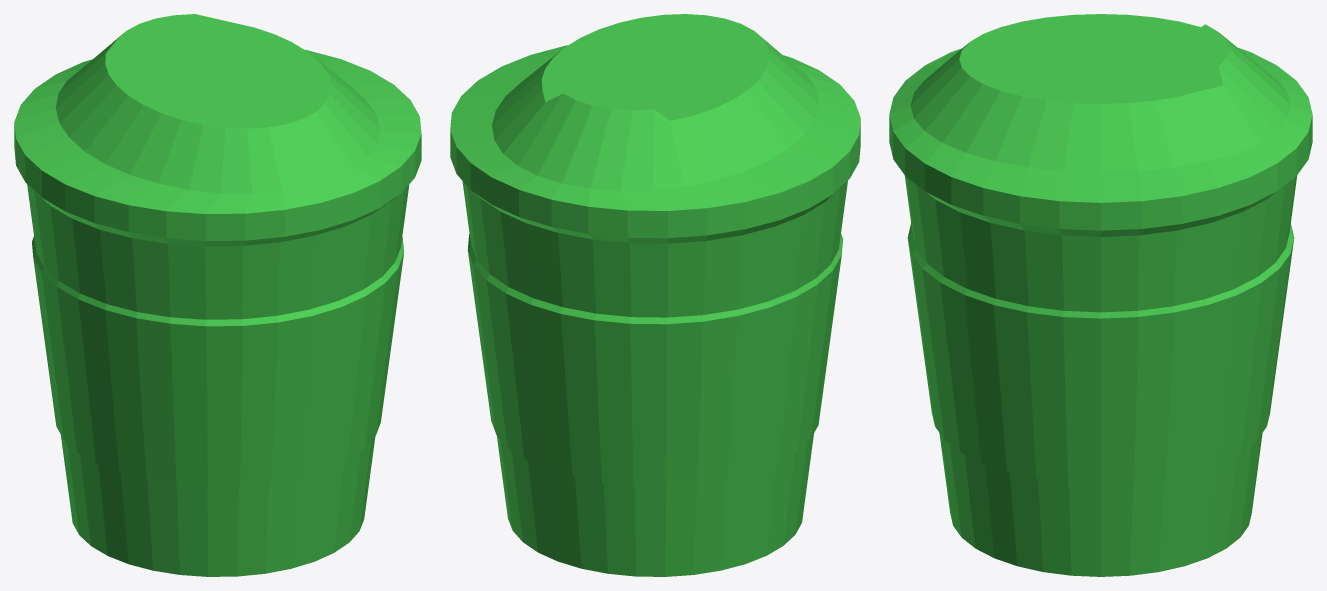
Rendered from coffee_tea2.fbx.
3 views of the same model, side by side, from view 1: azimuth 30°, elevation 25°; view 2: azimuth 150°, elevation 25°; view 3: azimuth 270°, elevation 25° (orthographic). The views are drawn at different scales.
Visible parts, largest first — view 1: Cylinder; view 2: Cylinder; view 3: Cylinder.
Part boxes in pixels (x1,y1,x2,y2): Cylinder: (14, 14, 421, 576); Cylinder: (450, 14, 860, 576); Cylinder: (889, 14, 1312, 576).
Bounding box in the file's own units: 277 × 340 × 281.
